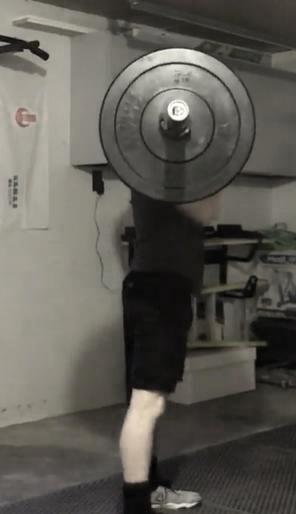Barbell: (167, 96, 191, 125)
